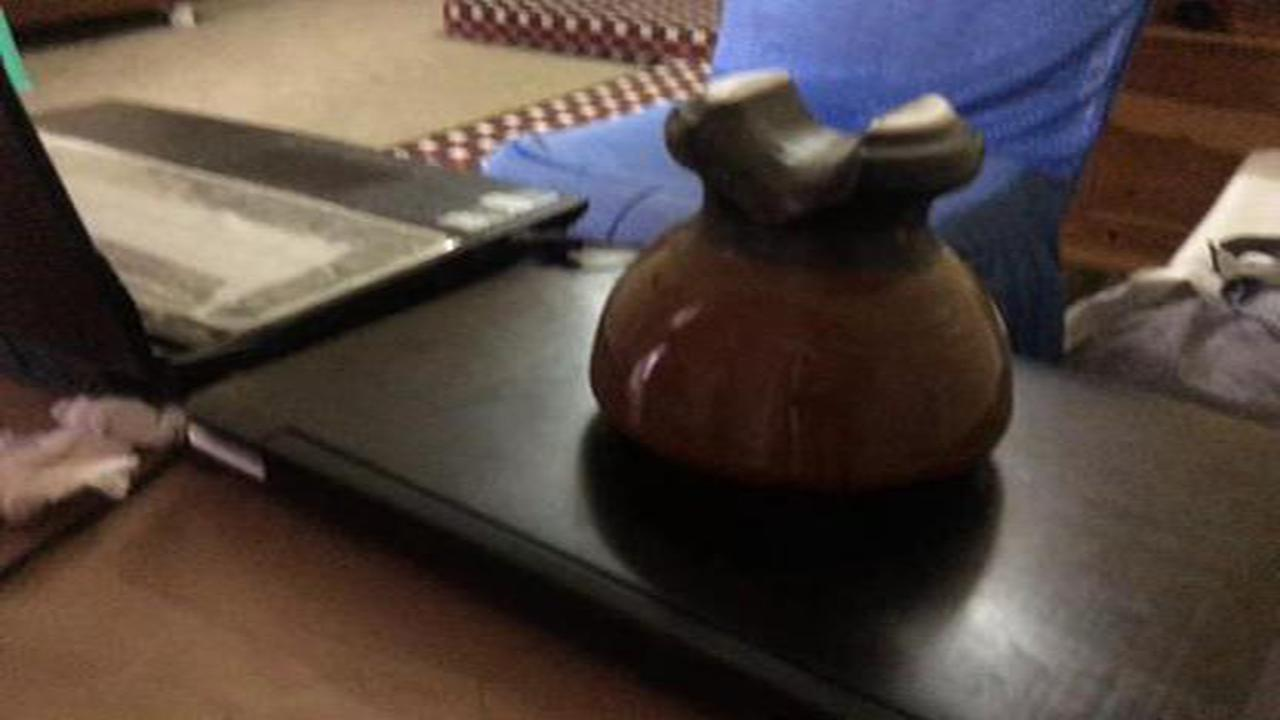insulator_pin: (567, 49, 1047, 513)
